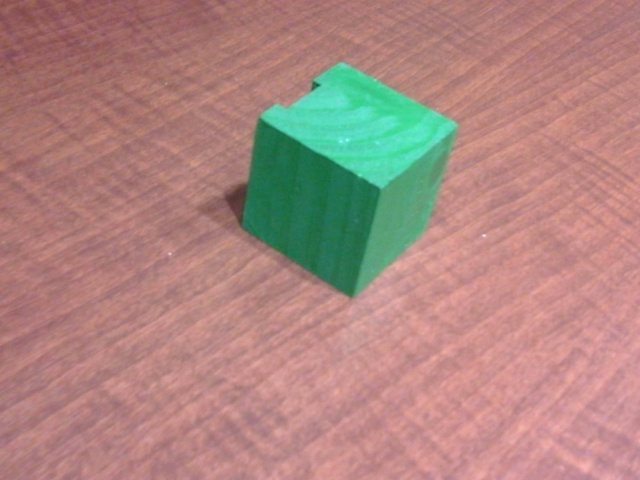GreenBlock: (239, 60, 456, 297)
